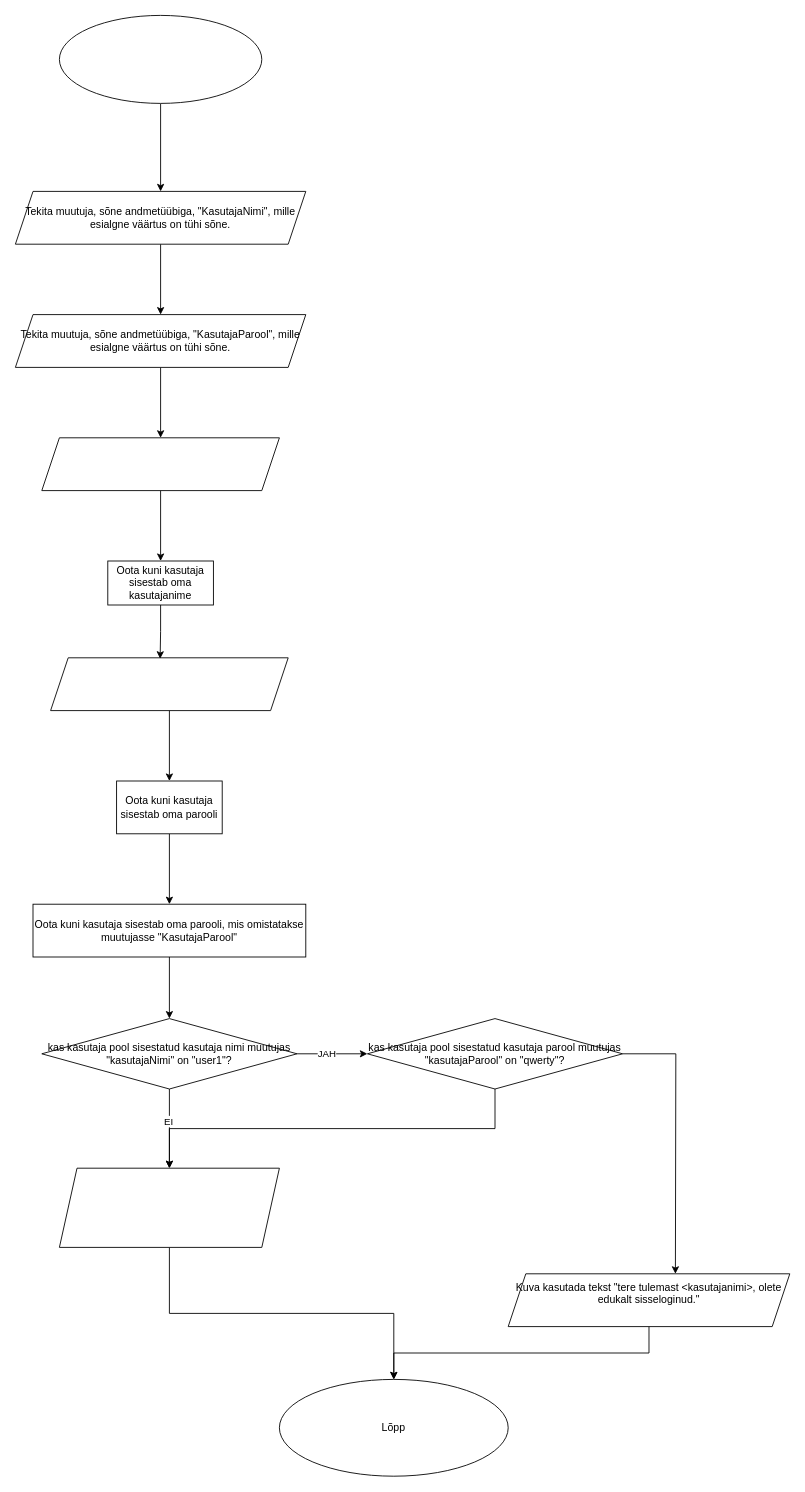
This 805x1492 diagram has some shape labels left out. The centre of each missing label's shape, as x and y in pixels:
Algus: point 160,59
Kuva kasutajale tekst "kasutajanimi või parool ei ole õige, sissepääs keelatud": point 169,1207
Kuva kasutajale tekst "palus sisesta oma kasutajanimi": point 160,464
Kuva kasutajale tekst "palus sisesta oma parooli": point 169,684
